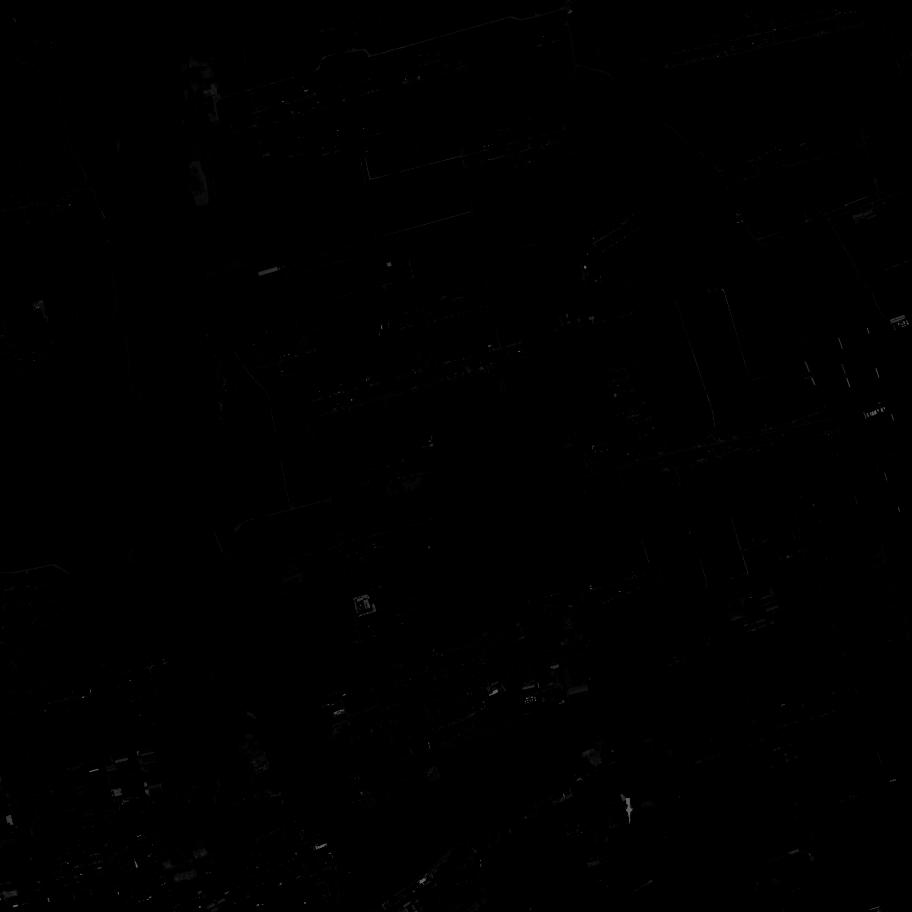ship: (245, 710, 259, 722), (228, 633, 239, 647), (358, 859, 367, 875), (322, 785, 334, 795), (103, 498, 116, 505), (285, 715, 293, 726), (153, 154, 160, 165), (259, 735, 267, 744), (124, 139, 130, 150), (178, 404, 183, 417), (327, 831, 333, 841), (135, 132, 141, 142), (141, 67, 144, 85), (150, 337, 156, 346), (169, 313, 173, 326), (204, 331, 209, 341), (184, 4, 196, 8), (353, 797, 360, 803), (117, 139, 120, 151), (168, 356, 171, 368), (173, 272, 178, 279), (351, 794, 358, 799), (176, 427, 178, 436), (348, 792, 355, 794), (352, 796, 358, 798), (360, 812, 368, 813)
